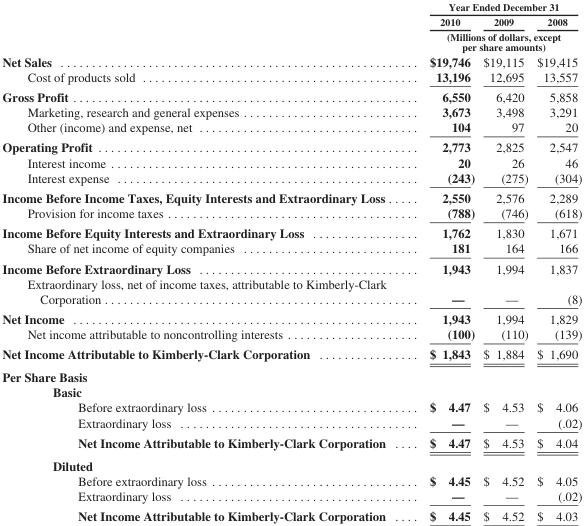table: (1, 0, 581, 522)
table column: (1, 0, 407, 522), (407, 0, 478, 522), (478, 0, 531, 522), (531, 0, 581, 522)
table column header: (1, 0, 581, 53)
table projected row header: (1, 365, 581, 384), (1, 453, 581, 472), (1, 384, 581, 399)
table row: (1, 275, 581, 308), (1, 29, 581, 53), (1, 343, 581, 365), (1, 432, 581, 453), (1, 365, 581, 384), (1, 453, 581, 472), (1, 68, 581, 86), (1, 136, 581, 154), (1, 169, 581, 187), (1, 204, 581, 222), (1, 222, 581, 240), (1, 257, 581, 275), (1, 308, 581, 326), (1, 414, 581, 432), (1, 487, 581, 505), (1, 86, 581, 103), (1, 119, 581, 136), (1, 187, 581, 204), (1, 240, 581, 257), (1, 326, 581, 343), (1, 505, 581, 522), (1, 13, 581, 29), (1, 103, 581, 119), (1, 53, 581, 68), (1, 154, 581, 169), (1, 384, 581, 399), (1, 399, 581, 414), (1, 472, 581, 487), (1, 0, 581, 13)
table spanning cell: (407, 29, 581, 53), (407, 0, 581, 13)
